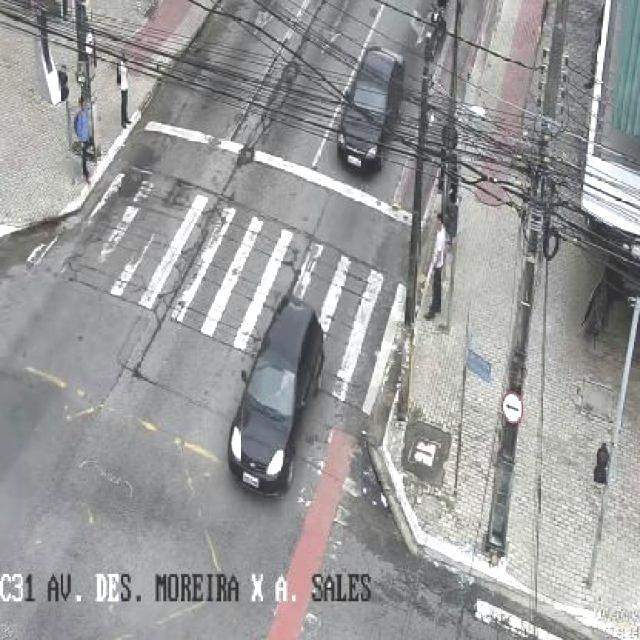Car: (217, 292, 329, 490), (336, 46, 406, 176)
